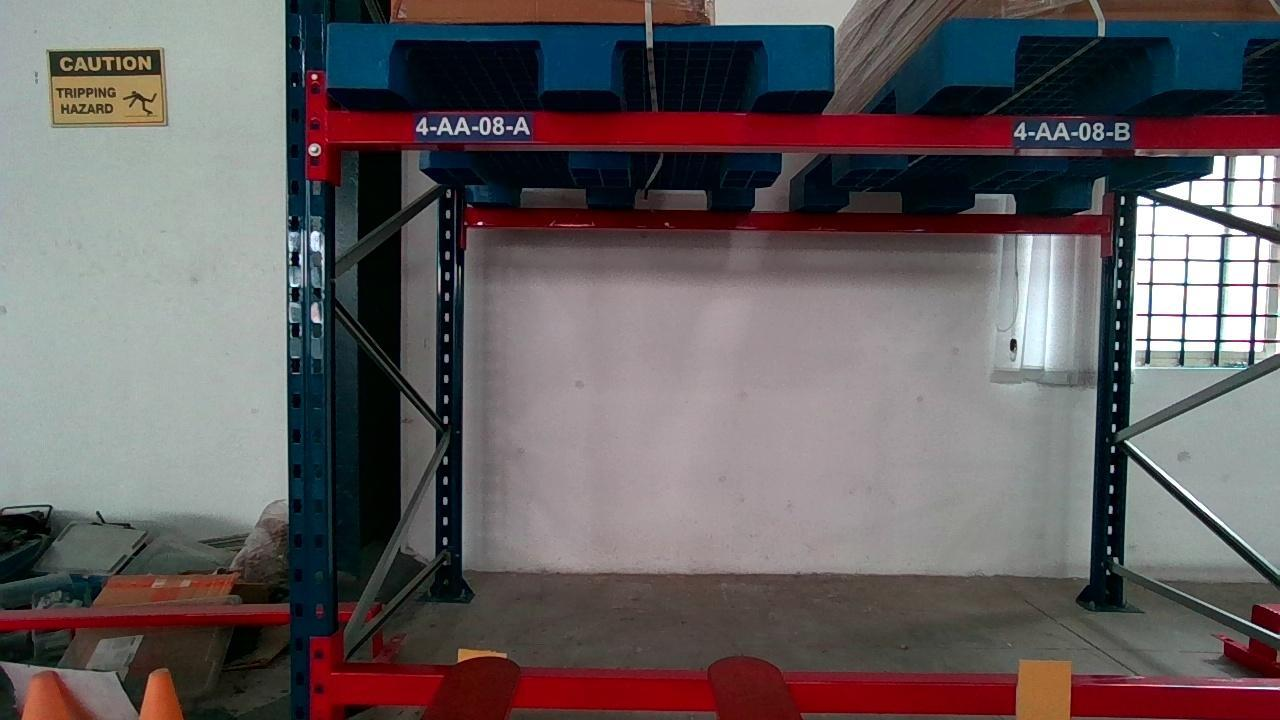h_rack: (332, 671, 1280, 716), (326, 114, 1280, 149)
orange_strip: (1016, 660, 1074, 716)
small_pallet: (328, 19, 833, 94), (948, 15, 1277, 88)
